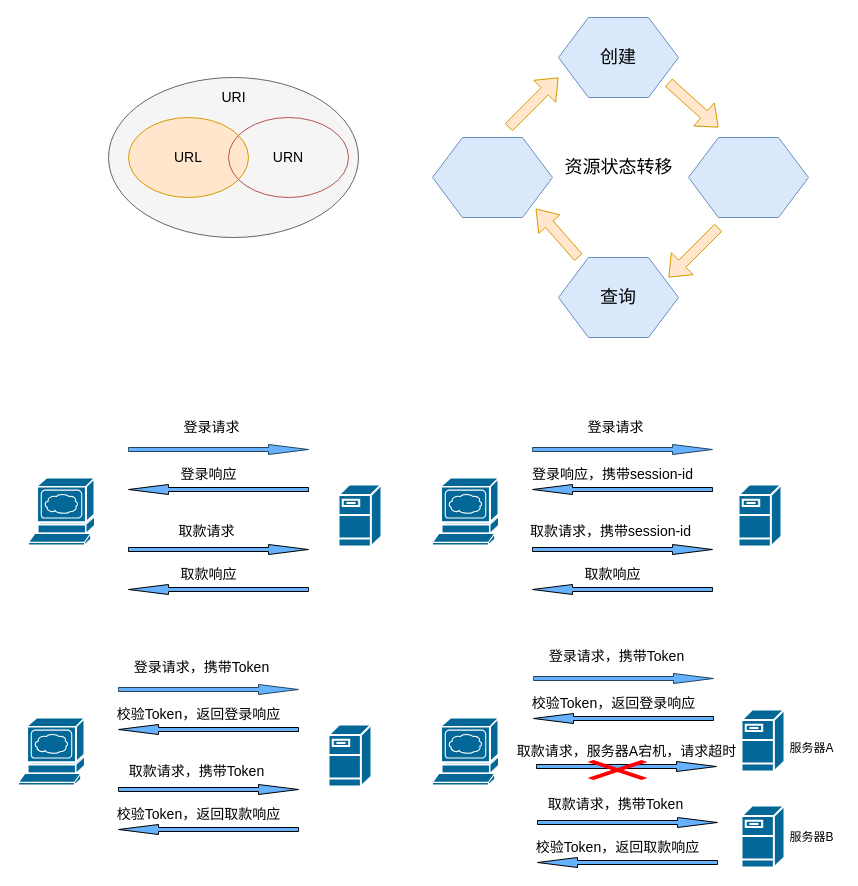
Image size: 858x886. Some labels were removed from this diagram. The centre of each missing label's shape, as x and y in pixels:
修改: the point at 748,177
删除: the point at 492,177
